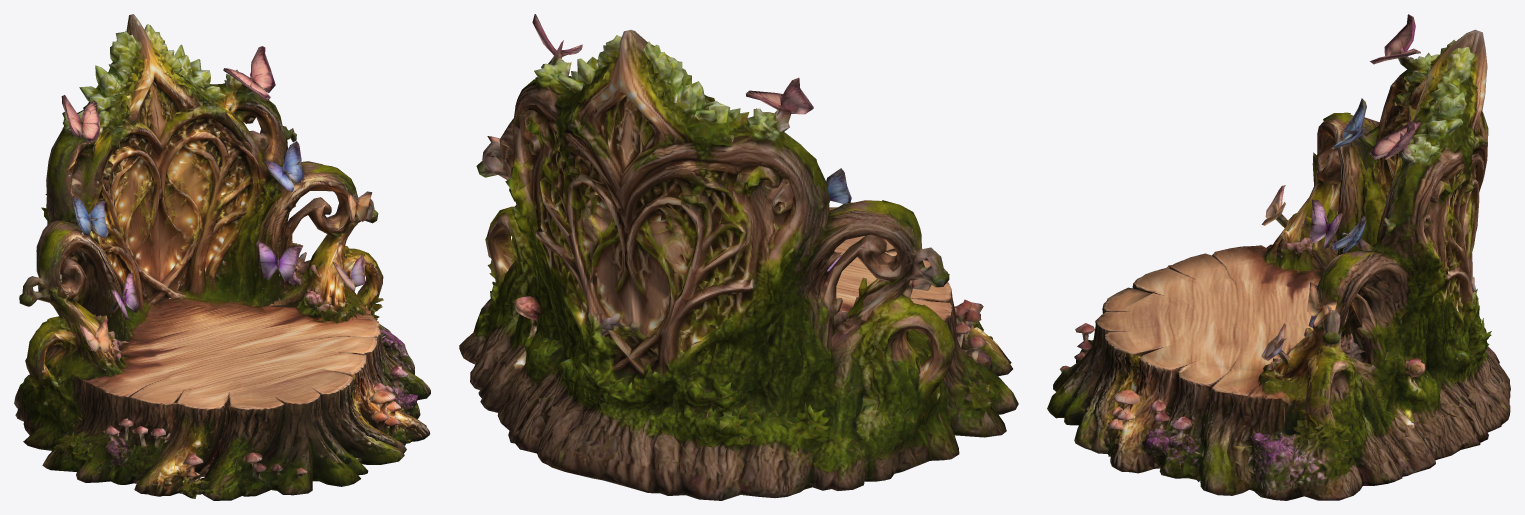
The model's file is Enchanted_Forest_Thro.glb.
3 renders of one model, left to right at view 1: azimuth 30°, elevation 25°; view 2: azimuth 150°, elevation 25°; view 3: azimuth 270°, elevation 25°, orthographic. The views are drawn at different scales.
Parts seen in each view (by area): view 1: Enchanted_Forest_Thro; view 2: Enchanted_Forest_Thro; view 3: Enchanted_Forest_Thro.
Boxes of the visible parts, x1,y1,x2,y2 form: Enchanted_Forest_Thro: (14,14,430,500); Enchanted_Forest_Thro: (459,14,1018,500); Enchanted_Forest_Thro: (1047,14,1510,500).
Size of the model in its own units: 1.91 by 1.61 by 1.84.
Materials: 1 (1 with a texture image).
